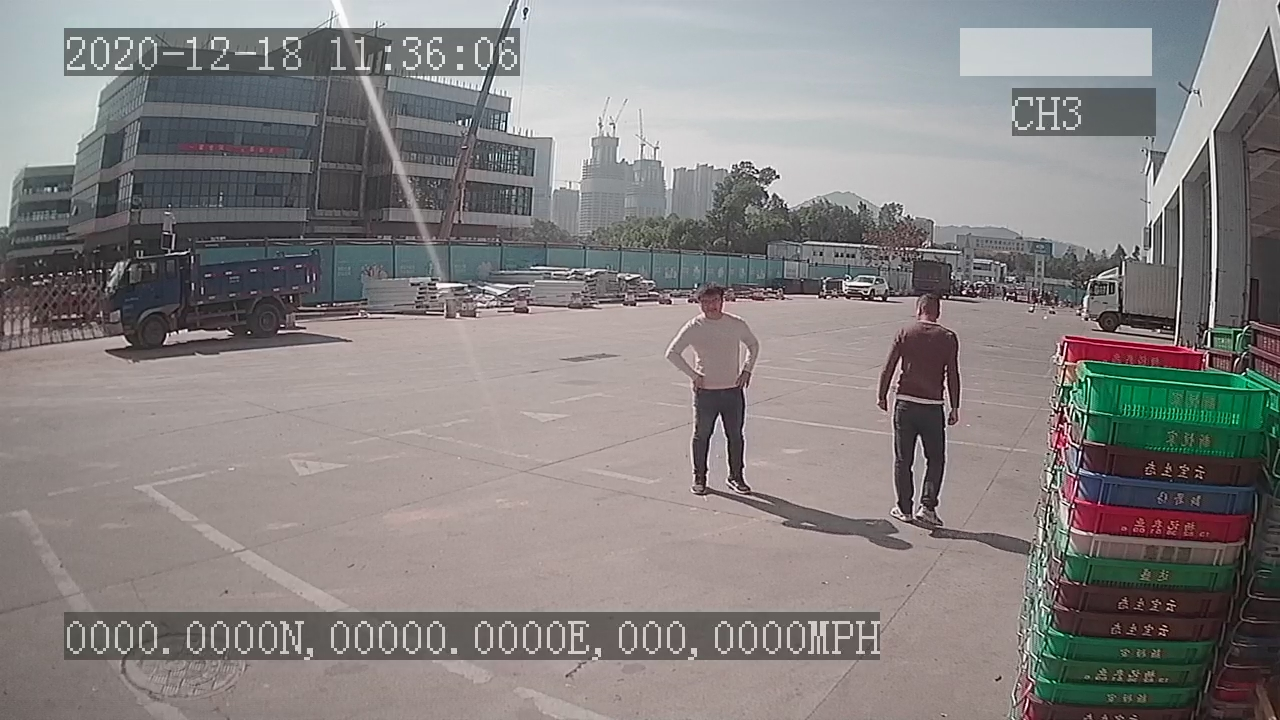person: (663, 282, 765, 497), (877, 290, 960, 529)
